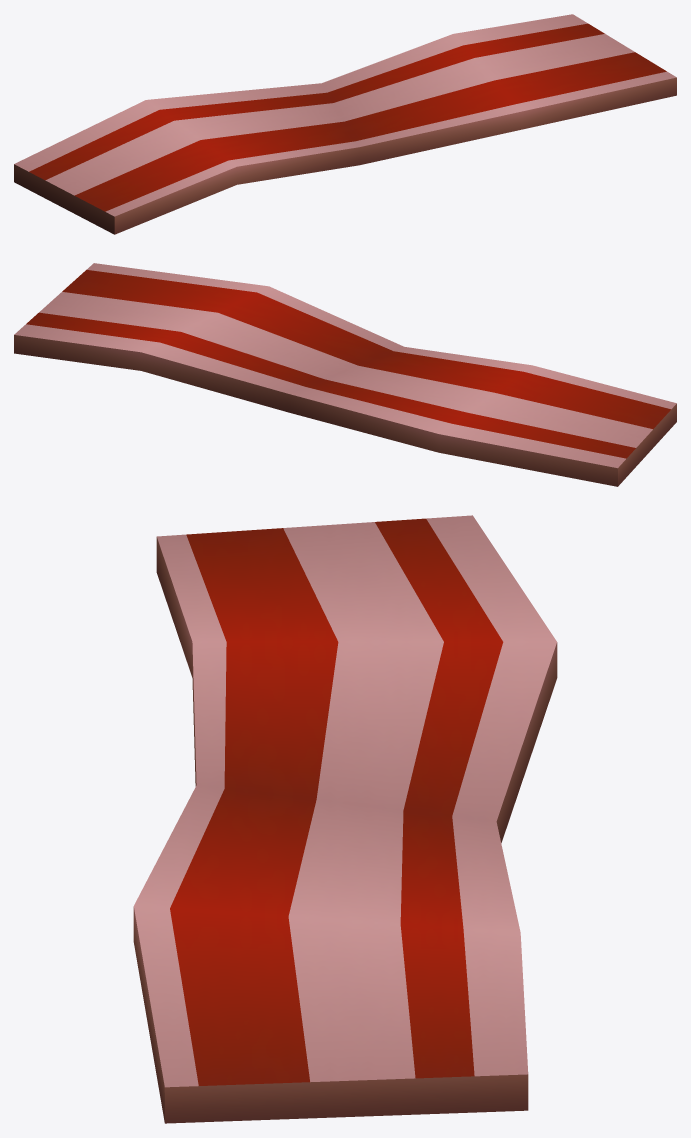
Rendered from Bacon_Strip_1A.fbx.
3 views of the same model, one above another, from view 1: azimuth 30°, elevation 25°; view 2: azimuth 150°, elevation 25°; view 3: azimuth 270°, elevation 25° (orthographic). The views are drawn at different scales.
Visible parts, largest first — view 1: Bacon_Strip_1A; view 2: Bacon_Strip_1A; view 3: Bacon_Strip_1A.
Part boxes in pixels (x1,y1,x2,y2): Bacon_Strip_1A: (14, 14, 676, 234); Bacon_Strip_1A: (14, 263, 676, 486); Bacon_Strip_1A: (133, 515, 557, 1123).
Size of the model in its own units: 32.02 by 1.54 by 10.02.
